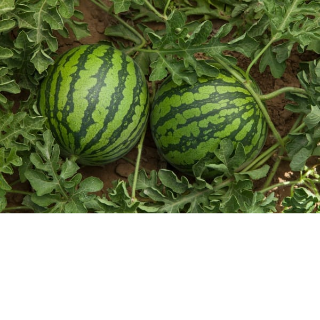dua_hau: (148, 58, 269, 179), (42, 40, 148, 171)
